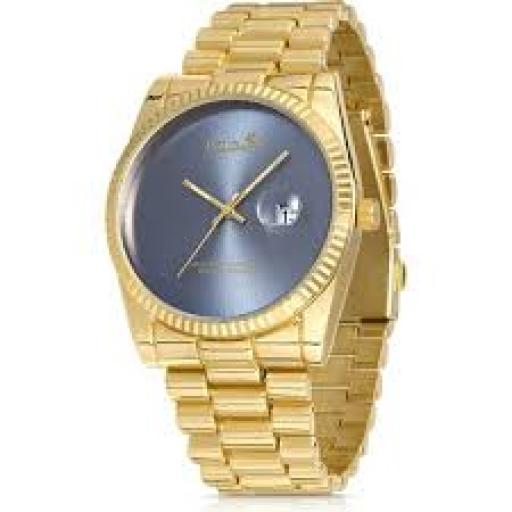KolSaati: (86, 3, 424, 506)
